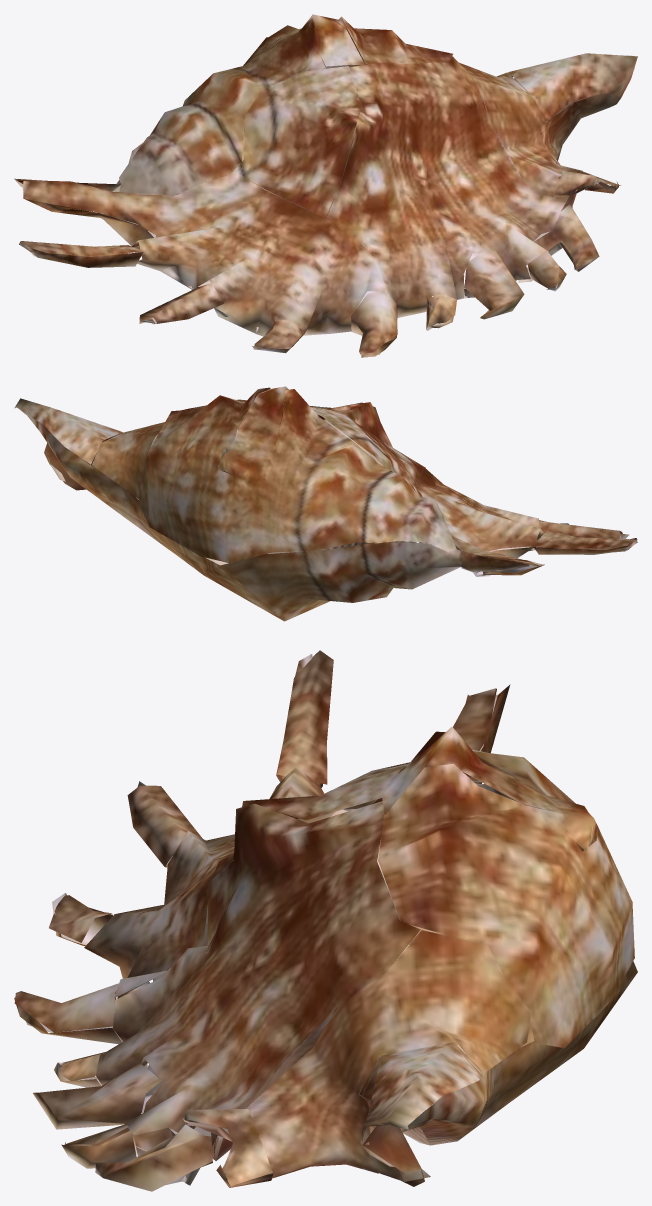
The model's file is shell.glb.
3 views of the same model, one above another, from view 1: azimuth 30°, elevation 25°; view 2: azimuth 150°, elevation 25°; view 3: azimuth 270°, elevation 25° (orthographic). The views are drawn at different scales.
Parts seen in each view (by area): view 1: v0_lod0; view 2: v0_lod0; view 3: v0_lod0.
Part boxes in pixels (box(x1,y1,x2,y2)): v0_lod0: box(14, 14, 637, 357); v0_lod0: box(14, 386, 637, 621); v0_lod0: box(14, 650, 637, 1191).
Size of what is drawn, in the model's own units: 0.9949 by 0.3379 by 0.5365.
1 material, 1 textured.
